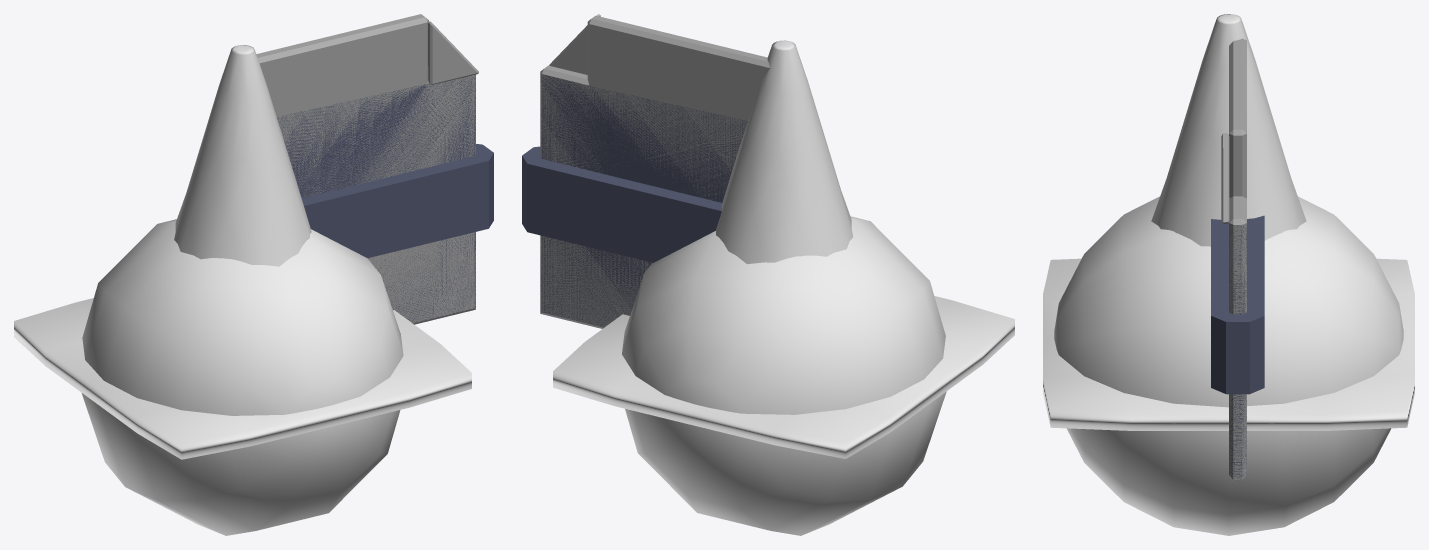
File: Icon.fbx
3 views of the same model, side by side, from view 1: azimuth 30°, elevation 25°; view 2: azimuth 150°, elevation 25°; view 3: azimuth 270°, elevation 25° (orthographic). The views are drawn at different scales.
Parts seen in each view (by area): view 1: Chrome, VLC, TXT, PDF; view 2: Chrome, VLC, PDF, TXT; view 3: Chrome, VLC, PDF, TXT.
Boxes of the visible parts, x1,y1,x2,y2 form: Chrome: (81, 219, 403, 535); VLC: (14, 45, 471, 459); TXT: (256, 14, 478, 324); PDF: (277, 75, 493, 322); Chrome: (622, 216, 946, 535); VLC: (553, 40, 1014, 458); PDF: (522, 73, 747, 327); TXT: (540, 14, 770, 328); Chrome: (1054, 196, 1403, 535); VLC: (1043, 14, 1414, 430); PDF: (1211, 215, 1264, 480); TXT: (1221, 38, 1246, 480).
Size of the model in its own units: 2.75 by 3.05 by 2.08.
